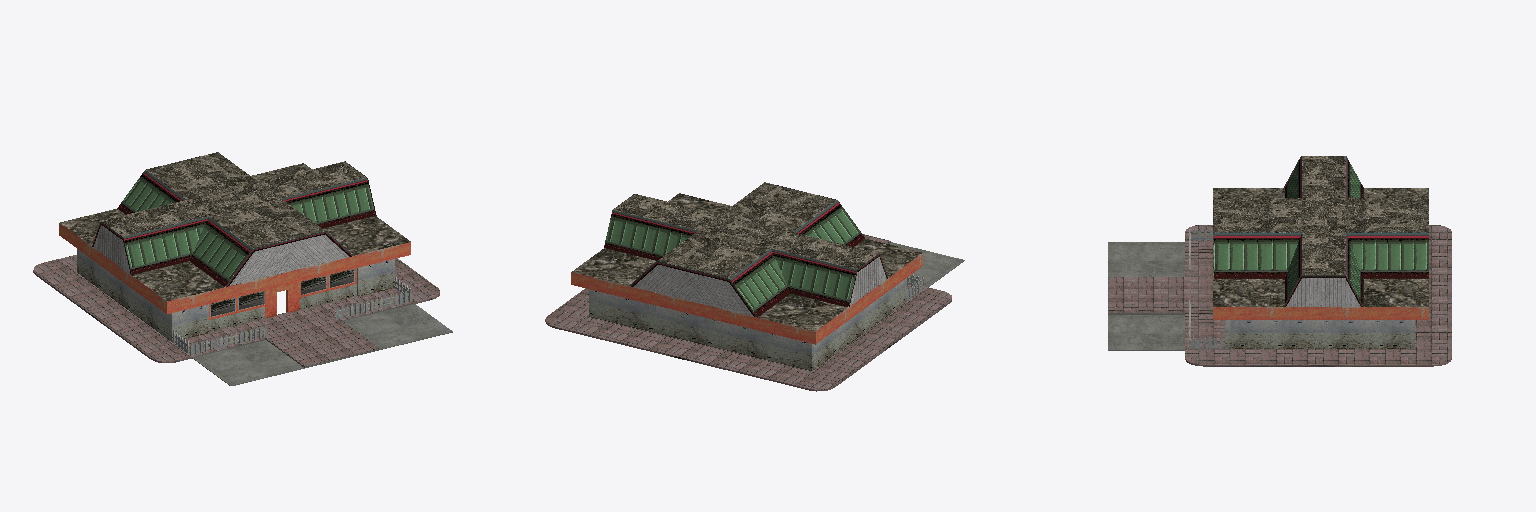
The picture shows the model from 3 angles: view 1: azimuth 30°, elevation 25°; view 2: azimuth 150°, elevation 25°; view 3: azimuth 270°, elevation 25°; orthographic projection.
Parts seen in each view (by area): view 1: group2 pasted__pasted__polySurface1 pasted__group66, polySurface14, pasted__pCube8 group2, polySurface19, group2 pasted__pasted__pasted__pasted__pCube7 pasted__pasted__pa, pasted__group54_pasted__pasted__pasted__pasted__pasted__pasted__, pasted__pasted__group54_pasted__pasted__pasted__pasted__pasted__; view 2: group2 pasted__pasted__polySurface1 pasted__group66, polySurface14, pasted__pCube8 group2, group2 pasted__pasted__pCube7 pasted__group62, group2 pasted__pasted__pasted__pasted__pCube7 pasted__pasted__pa; view 3: group2 pasted__pasted__polySurface1 pasted__group66, polySurface14, pasted__pCube8 group2, group2 pasted__pasted__pasted__pCube7 pasted__pasted__group62 pa.
Boxes of the visible parts, <box> form: group2 pasted__pasted__polySurface1 pasted__group66: <box>94,152,375,286</box>; polySurface14: <box>33,255,452,385</box>; pasted__pCube8 group2: <box>59,163,410,313</box>; polySurface19: <box>170,259,394,341</box>; group2 pasted__pasted__pasted__pasted__pCube7 pasted__pasted__pa: <box>79,250,169,339</box>; pasted__group54_pasted__pasted__pasted__pasted__pasted__pasted__: <box>190,325,266,354</box>; pasted__pasted__group54_pasted__pasted__pasted__pasted__pasted__: <box>335,289,411,319</box>; group2 pasted__pasted__polySurface1 pasted__group66: <box>604,182,886,316</box>; polySurface14: <box>545,234,964,391</box>; pasted__pCube8 group2: <box>571,193,922,344</box>; group2 pasted__pasted__pCube7 pasted__group62: <box>589,289,813,370</box>; group2 pasted__pasted__pasted__pasted__pCube7 pasted__pasted__pa: <box>814,280,904,369</box>; group2 pasted__pasted__polySurface1 pasted__group66: <box>1214,156,1428,306</box>; polySurface14: <box>1108,225,1451,366</box>; pasted__pCube8 group2: <box>1213,188,1428,319</box>; group2 pasted__pasted__pasted__pCube7 pasted__pasted__group62 pa: <box>1230,320,1410,348</box>.
Bounding box in the file's own units: 46.95 × 12.67 × 48.7.
22 materials, 13 textured.